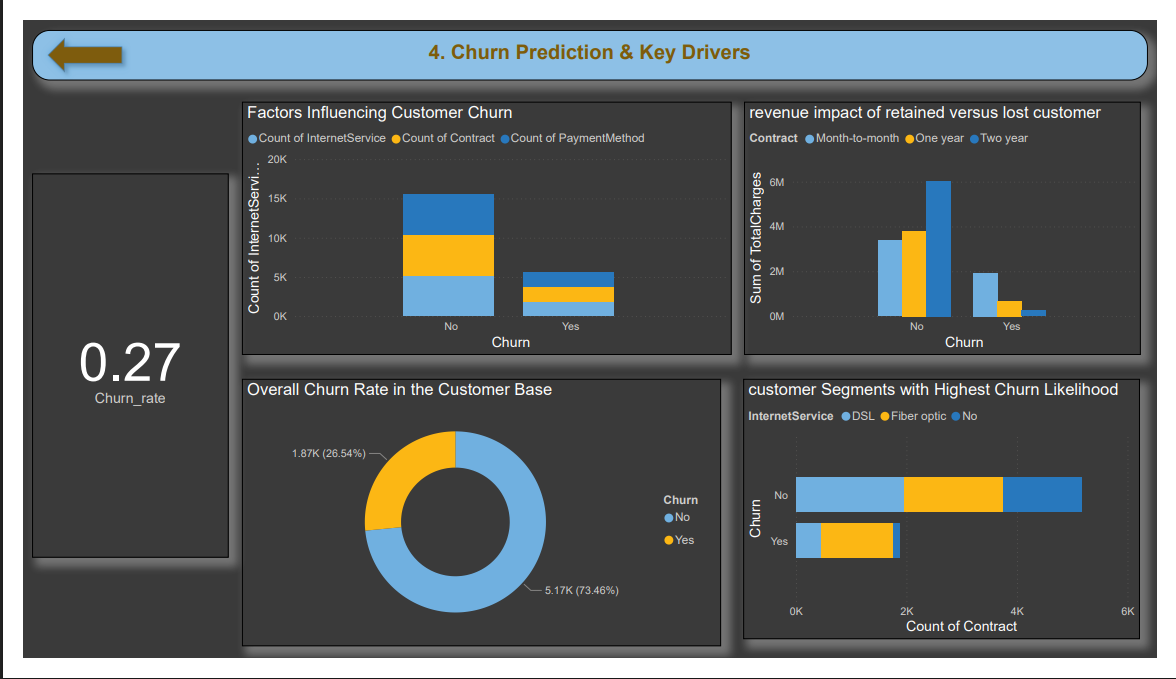

The page's visual inventory and layout, read from the dashboard file:
{"tool":"powerbi","page":{"name":"Page 4","canvas":[1280,720],"ordinal":3},"visuals":[{"type":"textbox","box":[9.7,10.9,1260.7,56.7],"z":0},{"type":"card","fields":{"Values":["cca data set.Churn_rate"]},"box":[9.7,172.5,222,434.3],"z":1000},{"type":"donutChart","title":"Overall Churn Rate in the Customer Base","fields":{"Category":["cca data set.Churn"],"Y":["CountNonNull(cca data set.customerID)"]},"box":[247.3,405.4,540.5,301.6],"z":2000},{"type":"columnChart","title":"Factors Influencing Customer Churn","fields":{"Category":["cca data set.Churn"],"Y":["CountNonNull(cca data set.InternetService)","CountNonNull(cca data set.Contract)","CountNonNull(cca data set.PaymentMethod)"]},"box":[247.3,91.7,552.5,285.9],"z":3000},{"type":"barChart","title":"customer Segments with Highest Churn Likelihood","fields":{"Y":["CountNonNull(cca data set.Contract)"],"Series":["cca data set.InternetService"],"Category":["cca data set.Churn"]},"box":[813.1,405.4,447.6,293.2],"z":4000},{"type":"clusteredColumnChart","title":"revenue impact of retained versus lost customer","fields":{"Category":["cca data set.Churn"],"Y":["Sum(cca data set.TotalCharges)"],"Series":["cca data set.Contract"]},"box":[814.3,91.7,447.6,285.9],"z":5000},{"type":"shape","box":[19.3,10.9,101.3,56.7],"z":6000}]}

Visuals, with their boxes in screenshot pixels (x1, y1, x2, y2), scaled from the page's 1280x720 canvas onto the 1176x679 screenshot:
textbox: <bbox>9, 10, 1167, 64</bbox>
card - cca data set.Churn_rate: <bbox>9, 163, 213, 572</bbox>
"Overall Churn Rate in the Customer Base" donutChart: <bbox>227, 382, 724, 667</bbox>
"Factors Influencing Customer Churn" columnChart: <bbox>227, 86, 735, 356</bbox>
"customer Segments with Highest Churn Likelihood" barChart: <bbox>747, 382, 1158, 659</bbox>
"revenue impact of retained versus lost customer" clusteredColumnChart: <bbox>748, 86, 1159, 356</bbox>
shape: <bbox>18, 10, 111, 64</bbox>
